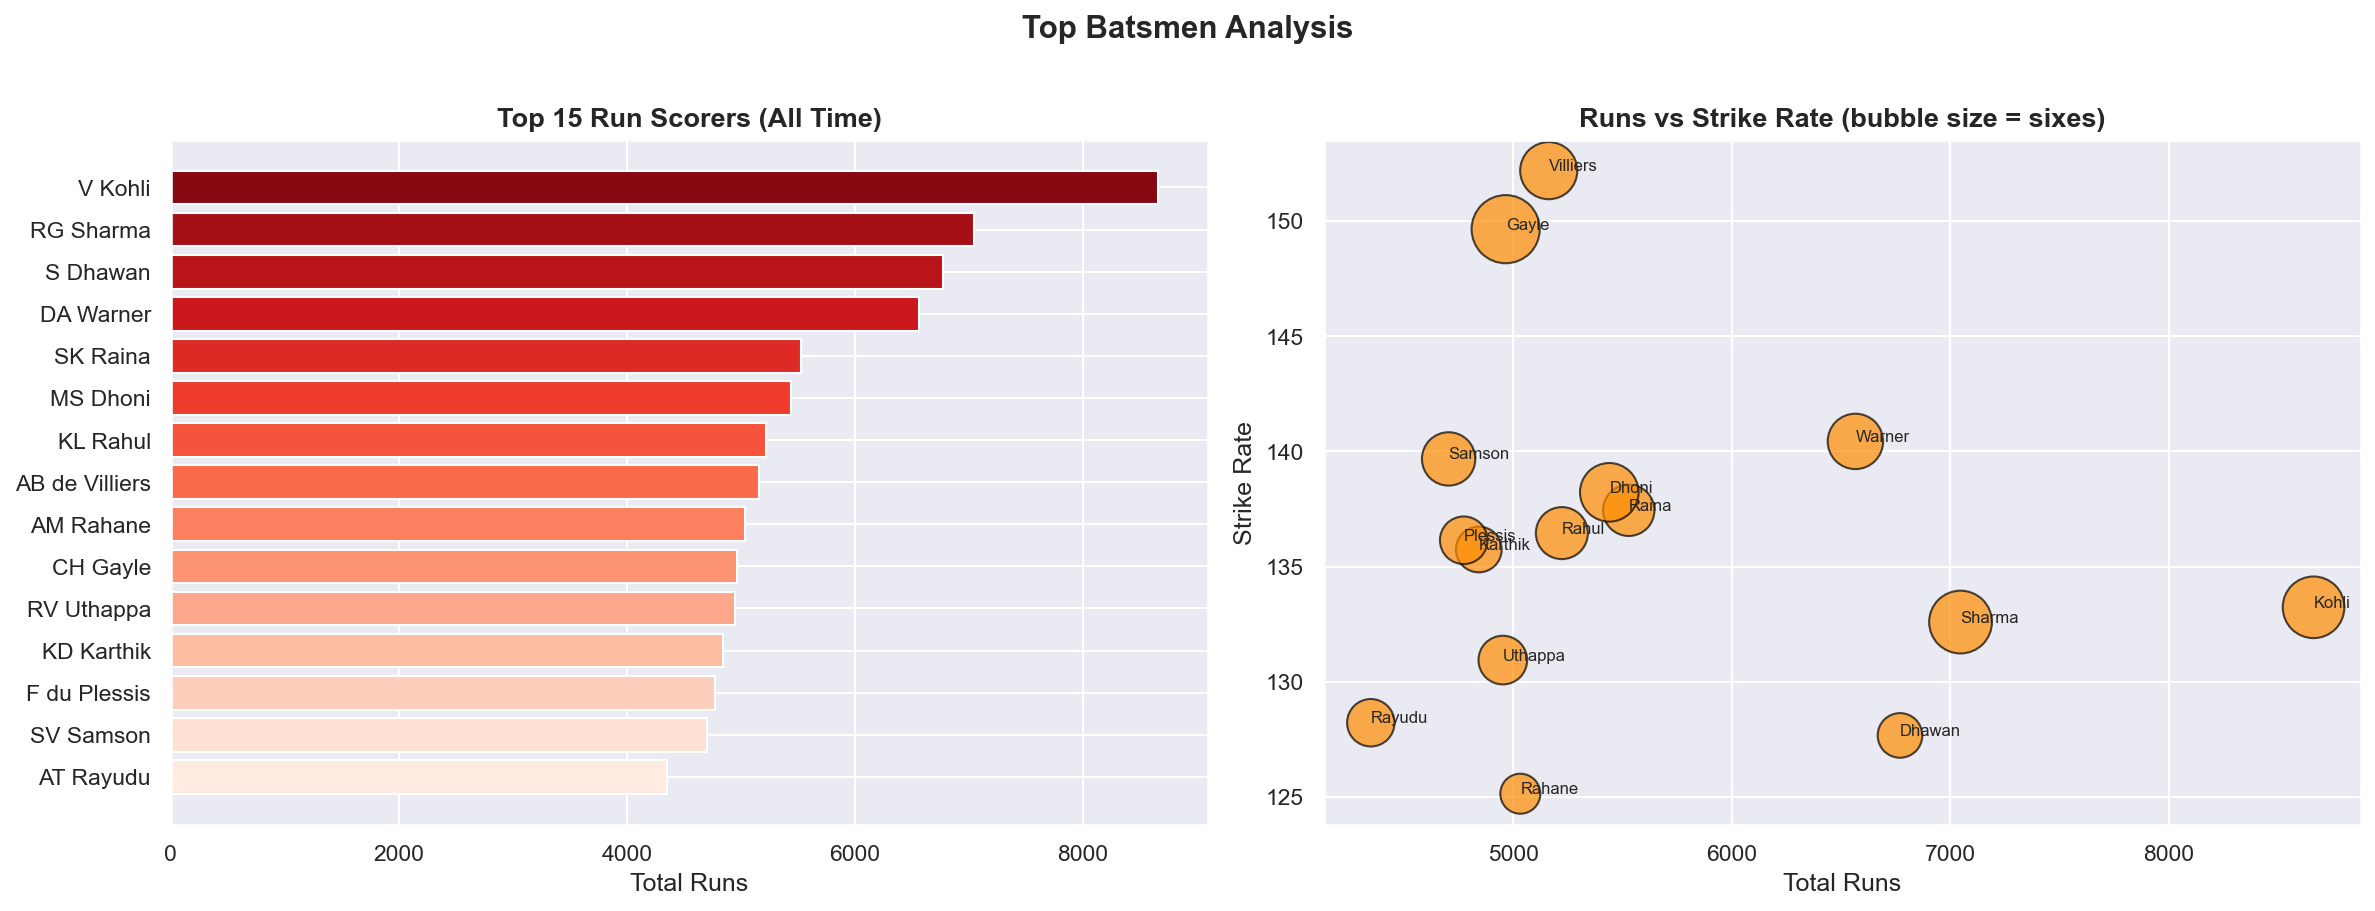

What the dashboard file says about the page in this screenshot:
{"tool":"powerbi","page":{"name":"Player Performance","canvas":[1280,720],"ordinal":1},"visuals":[{"type":"clusteredBarChart","title":"Top 15 Run Scorers","fields":{"Category":["batting_stats.batter"],"Y":["Sum(batting_stats.total_runs)"]},"box":[29.5,83.5,527.3,411],"z":0},{"type":"clusteredBarChart","title":"Top 15 Wicket Takers","fields":{"Category":["bowling_stats.bowler"],"Y":["Sum(bowling_stats.wickets)"]},"box":[717.2,85.2,535.5,411],"z":1000},{"type":"scatterChart","title":"Runs vs Strike Rate","fields":{"Category":["batting_stats.batter"],"Size":["Sum(batting_stats.sixes)"],"X":["Sum(batting_stats.total_runs)"],"Y":["Avg(batting_stats.strike_rate)"]},"box":[29.5,520.7,1223.2,178.5],"z":2000},{"type":"textbox","box":[0,0,1256.6,68.2],"z":3000}]}

Visuals, with their boxes on the page's 1280x720 design canvas (x1, y1, x2, y2). These are canvas units, not pixel positions in the 2375x911 screenshot, which may show the page scaled, cropped or inside an application window:
"Top 15 Run Scorers" clusteredBarChart: locate(30, 84, 557, 494)
"Top 15 Wicket Takers" clusteredBarChart: locate(717, 85, 1253, 496)
"Runs vs Strike Rate" scatterChart: locate(30, 521, 1253, 699)
textbox: locate(0, 0, 1257, 68)
